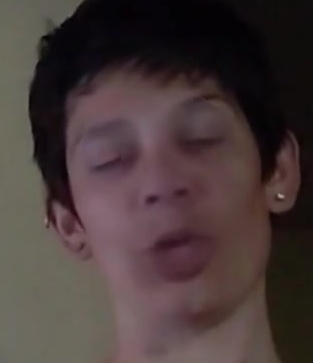eb_f: (68, 90, 244, 178)
